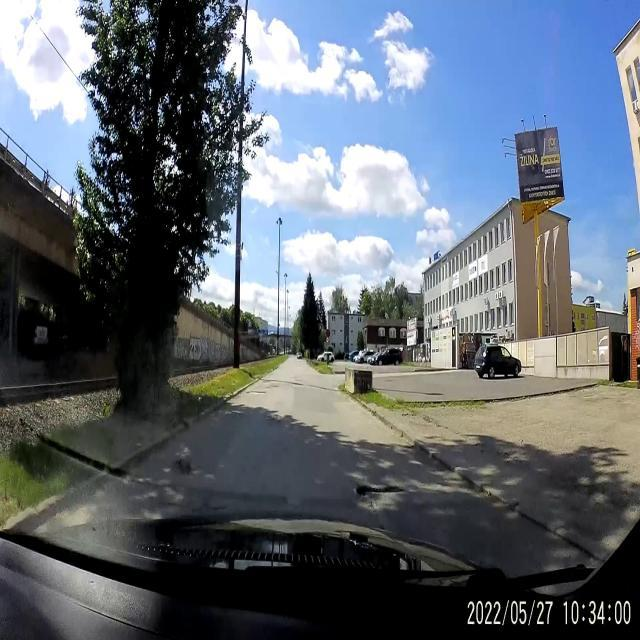Pothole: (356, 480, 406, 508), (173, 455, 197, 475)
